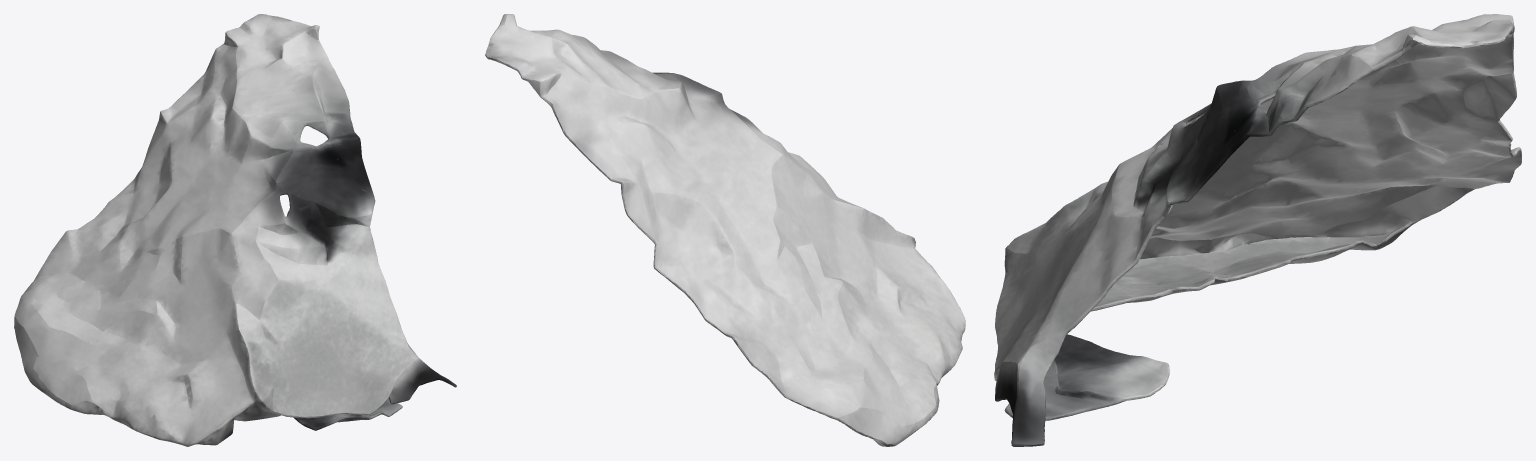
3 renders of one model, left to right at view 1: azimuth 30°, elevation 25°; view 2: azimuth 150°, elevation 25°; view 3: azimuth 270°, elevation 25°, orthographic. The views are drawn at different scales.
Visible parts, largest first — view 1: world; view 2: world; view 3: world.
Part boxes in pixels (<box>): world: <box>14,14,456,446</box>; world: <box>485,14,965,446</box>; world: <box>994,14,1521,446</box>.
Bounding box in the file's own units: 0.12 × 0.1048 × 0.1184.
1 material, 1 textured.
